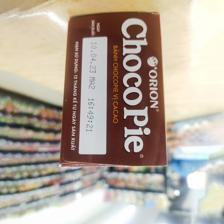Chocopie_cacao: (59, 9, 168, 168)
